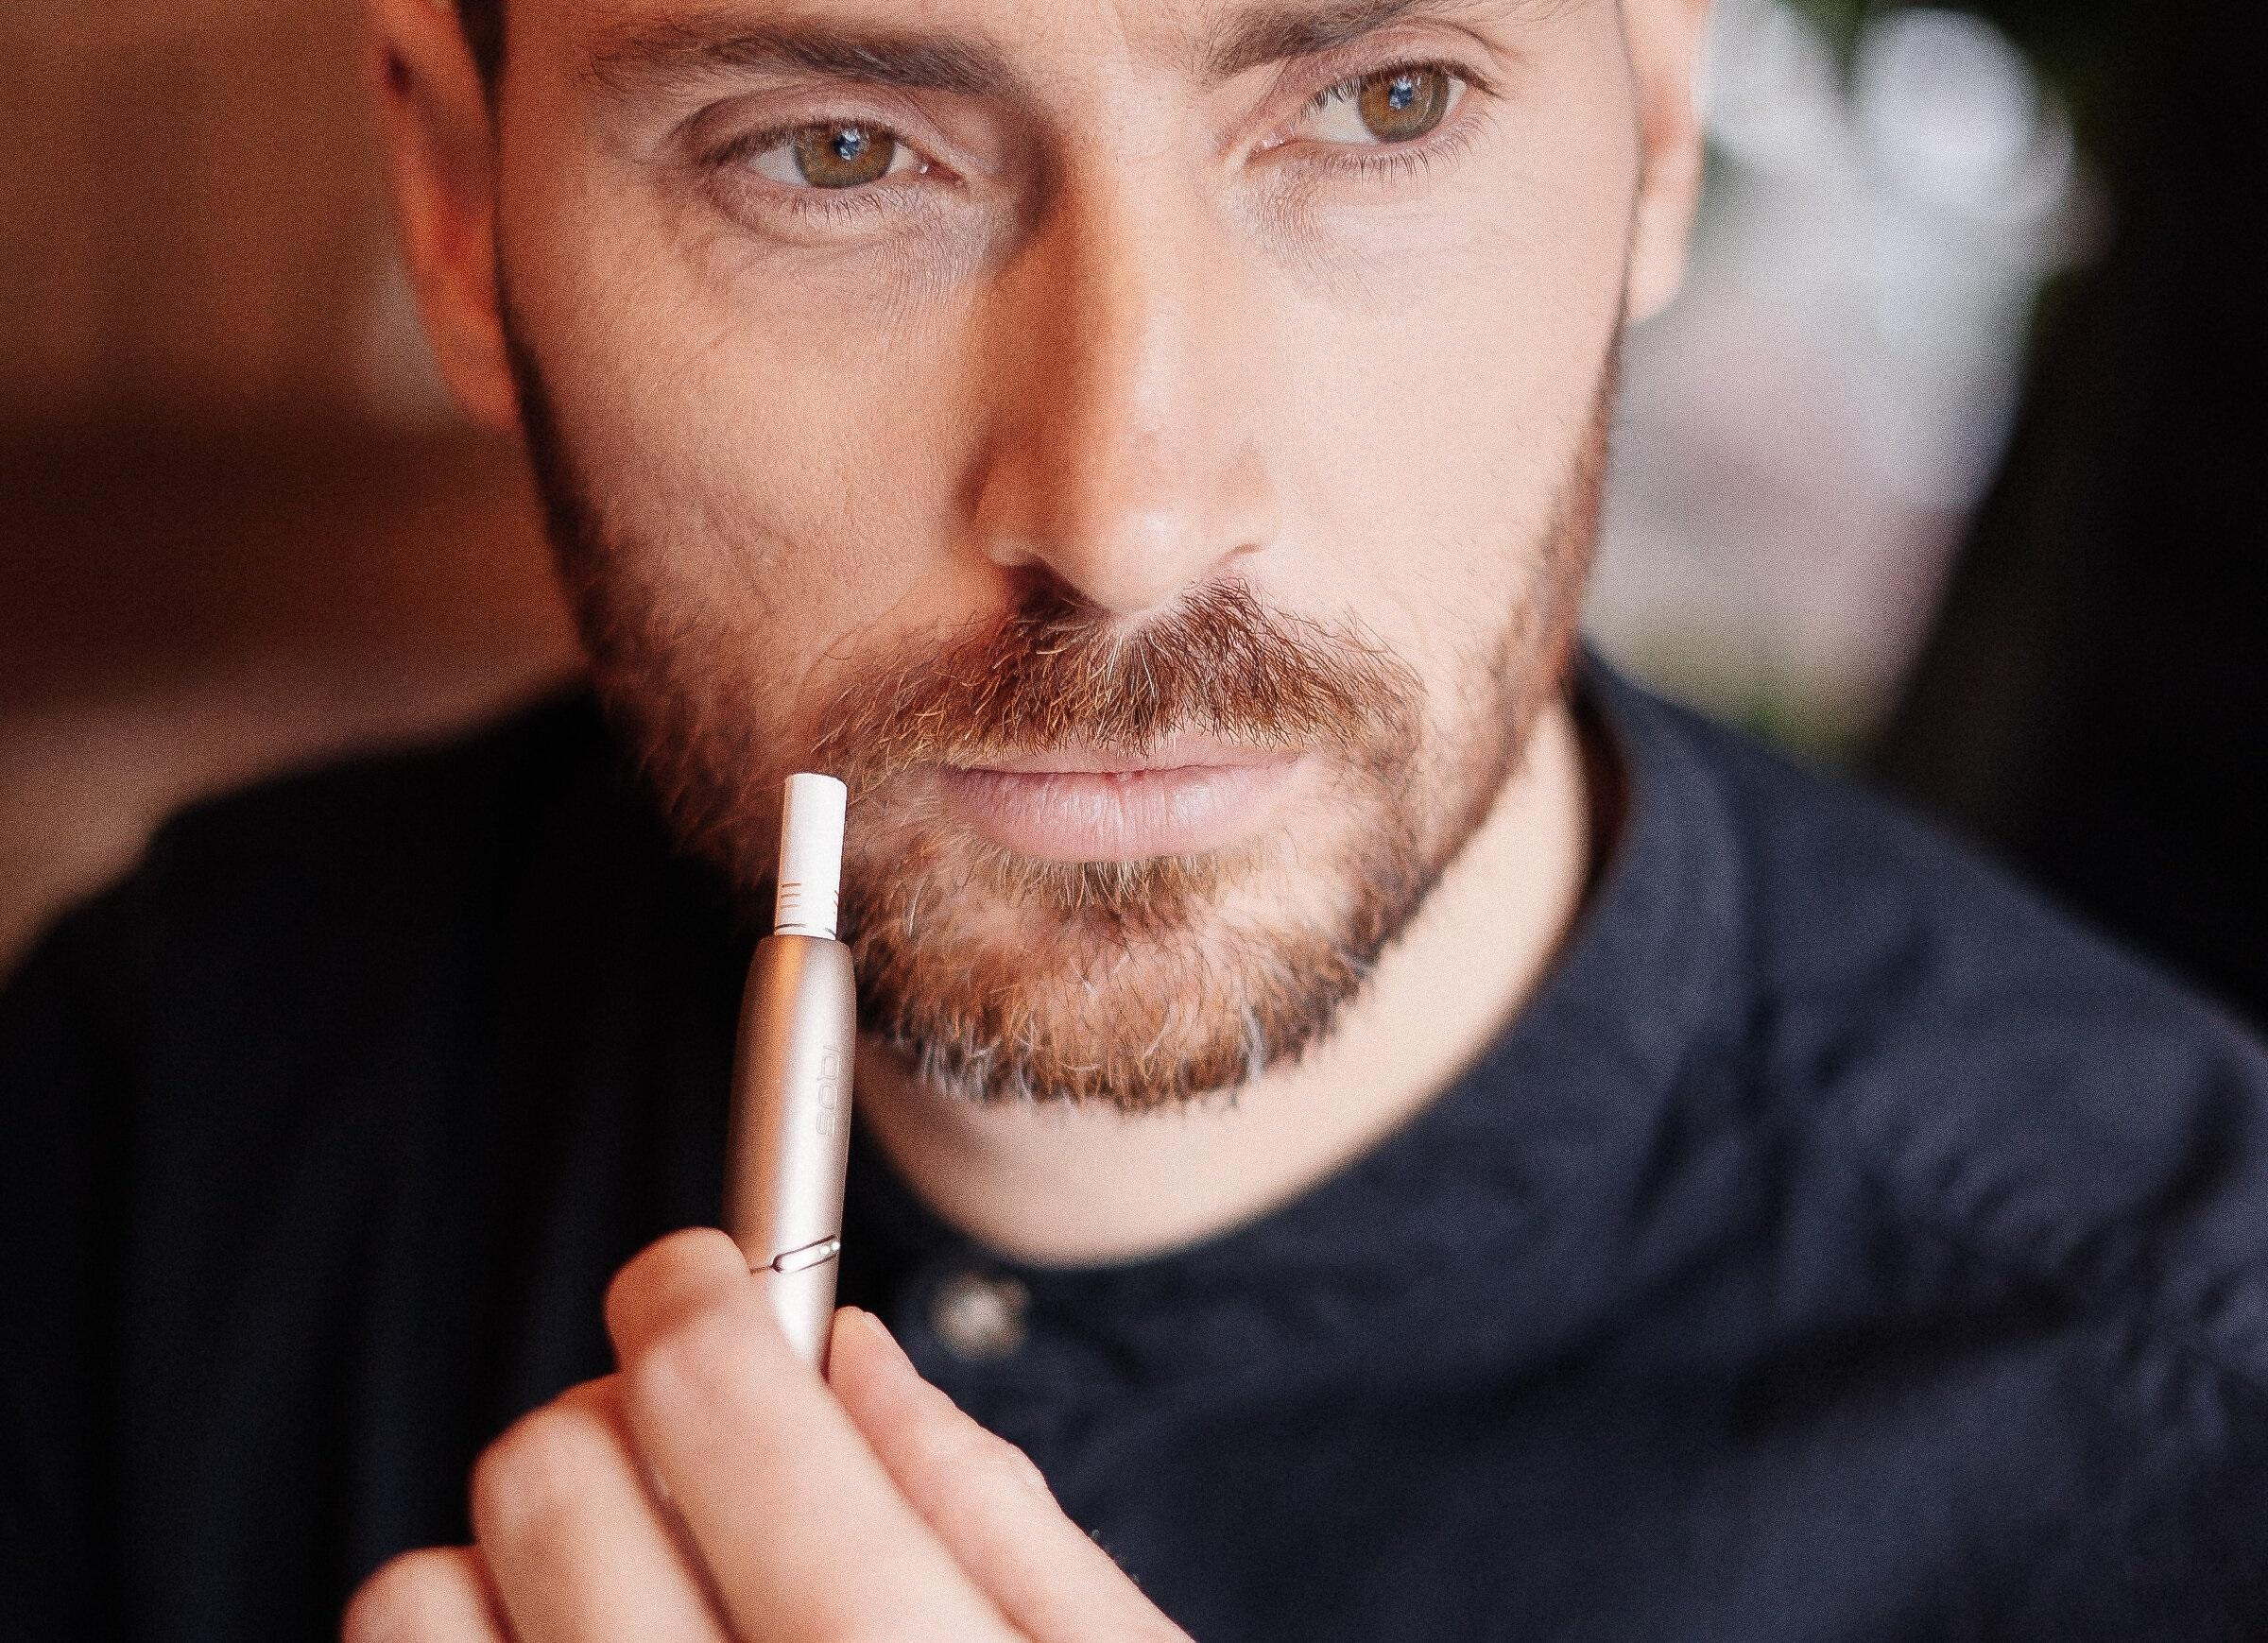iqos: (724, 773, 856, 1370)
